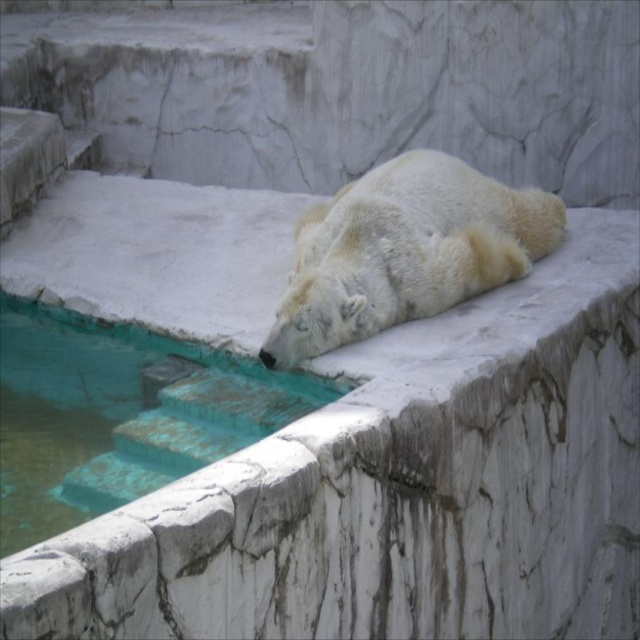Polar bear: (257, 145, 569, 373)
